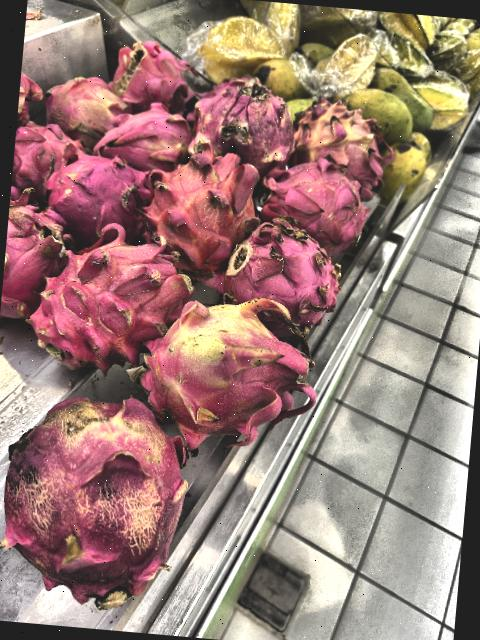buah-naga-belum-matang: (0, 378, 199, 603), (137, 288, 335, 444), (289, 92, 402, 201), (44, 66, 140, 146)
buah-naga-matang: (34, 238, 204, 349), (138, 144, 262, 260), (252, 151, 376, 259), (228, 220, 346, 328), (182, 75, 302, 176), (37, 156, 166, 235), (1, 202, 82, 318), (102, 34, 204, 111), (93, 101, 196, 171), (10, 104, 77, 207)
